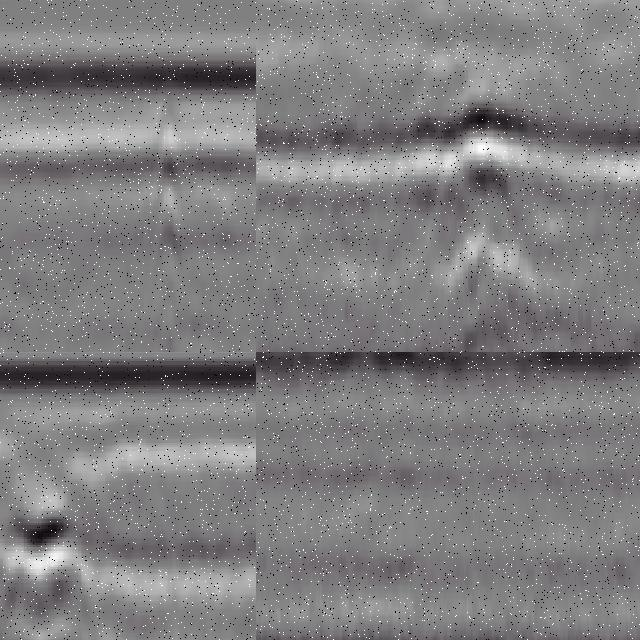crack: (148, 80, 188, 353)
loose: (366, 67, 569, 186), (1, 492, 102, 640), (257, 353, 306, 481)
